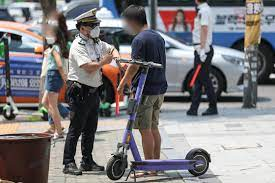guide_blocks: (1, 123, 17, 133)
kick_neck: (1, 45, 13, 104)
kick_wheel: (187, 148, 208, 176), (107, 154, 126, 179), (2, 105, 16, 120)
